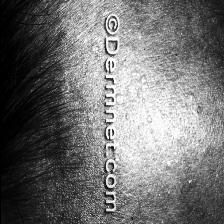Toxin: (119, 56, 197, 218), (128, 1, 144, 97)
